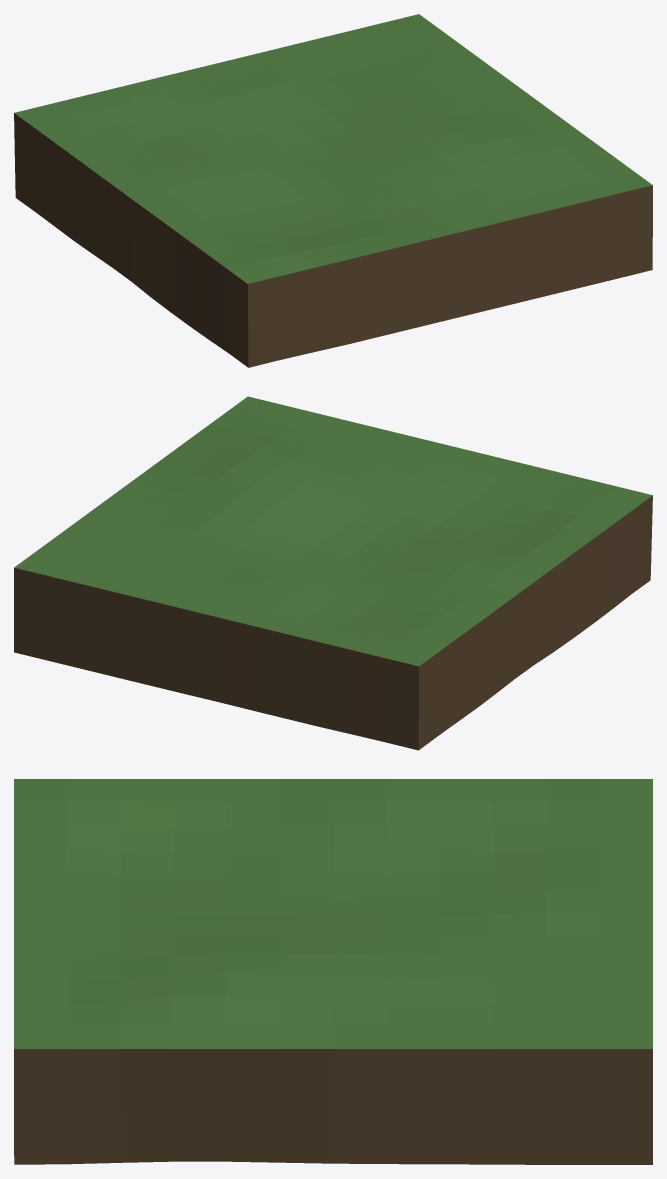
Rendered from grass_04.glb.
3 views of the same model, one above another, from view 1: azimuth 30°, elevation 25°; view 2: azimuth 150°, elevation 25°; view 3: azimuth 270°, elevation 25° (orthographic). The views are drawn at different scales.
Visible parts, largest first — view 1: Grid; view 2: Grid; view 3: Grid.
Boxes of the visible parts, bbox=[...] form: Grid: bbox=[14, 14, 652, 367]; Grid: bbox=[14, 396, 652, 750]; Grid: bbox=[14, 779, 652, 1164].
Size of the model in its own units: 1 by 0.2146 by 1.
